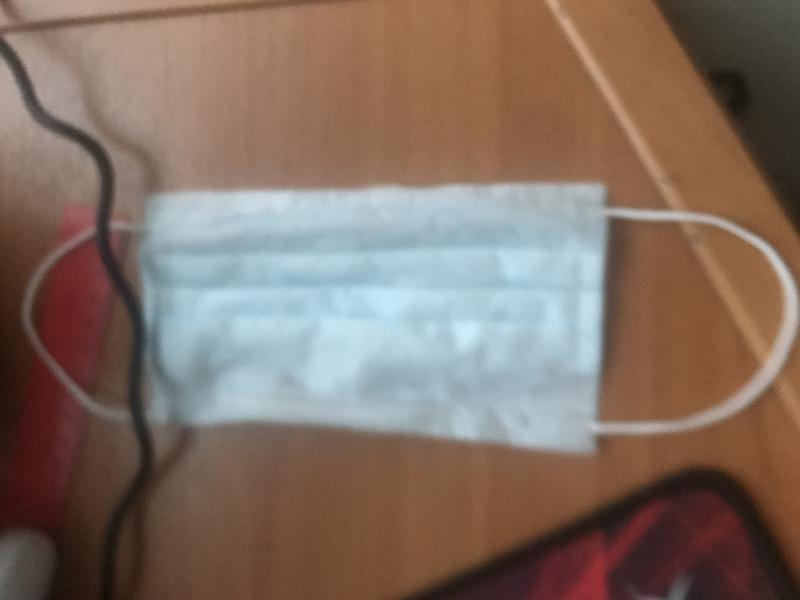medical_mask: (25, 185, 800, 458)
